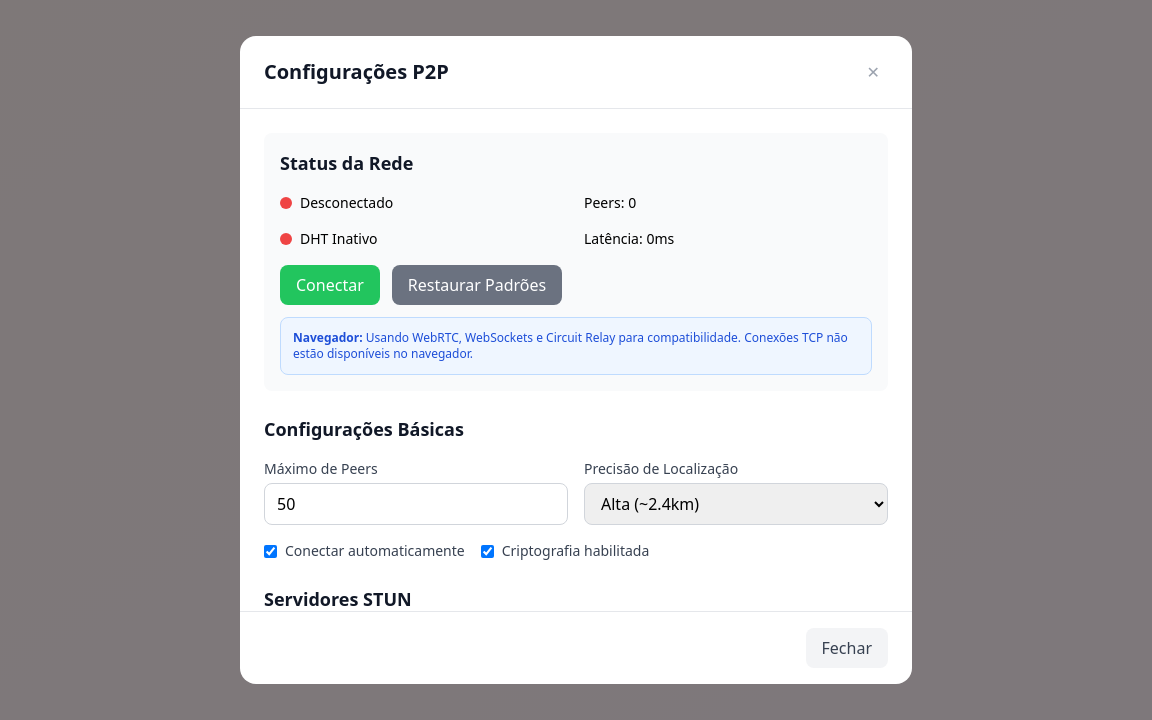
Scenario: P2P Browser Compatibility › handles browser-specific connection errors gracefully
The width and height of the screenshot is (1152, 720).
Click the button "Conectar" at (330, 285), box [280, 265, 380, 305]
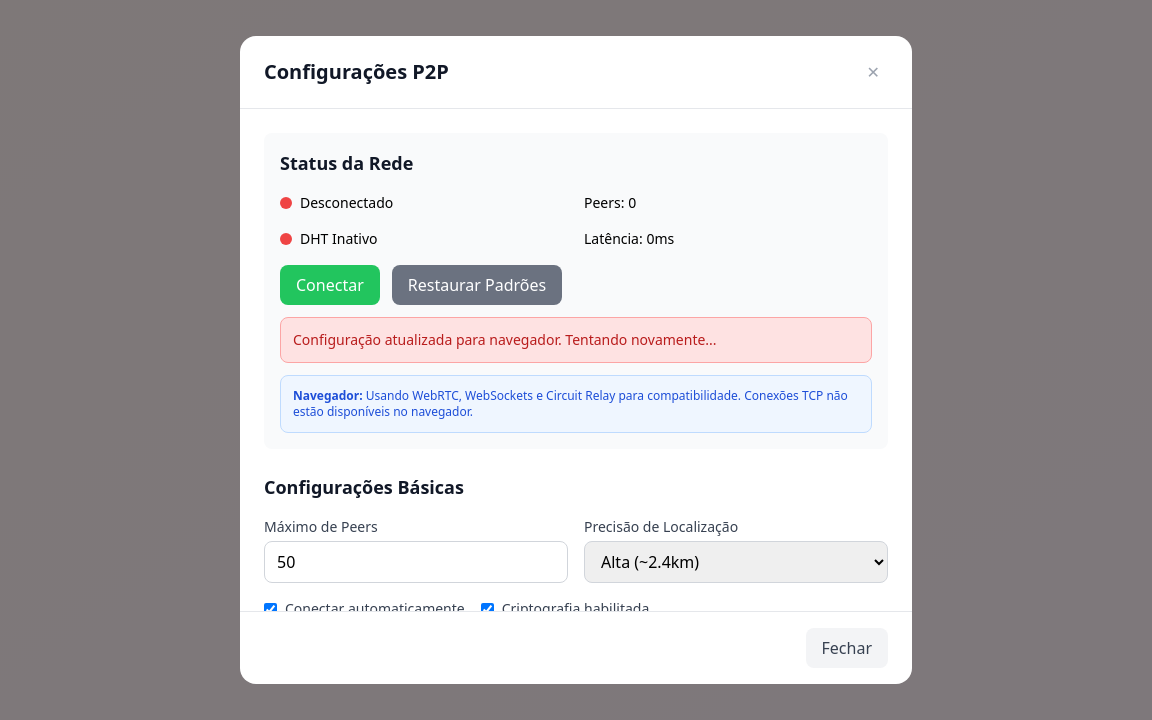
Expected: the text "Configuração atualizada para navegador" is shown, [293, 330, 717, 349]
